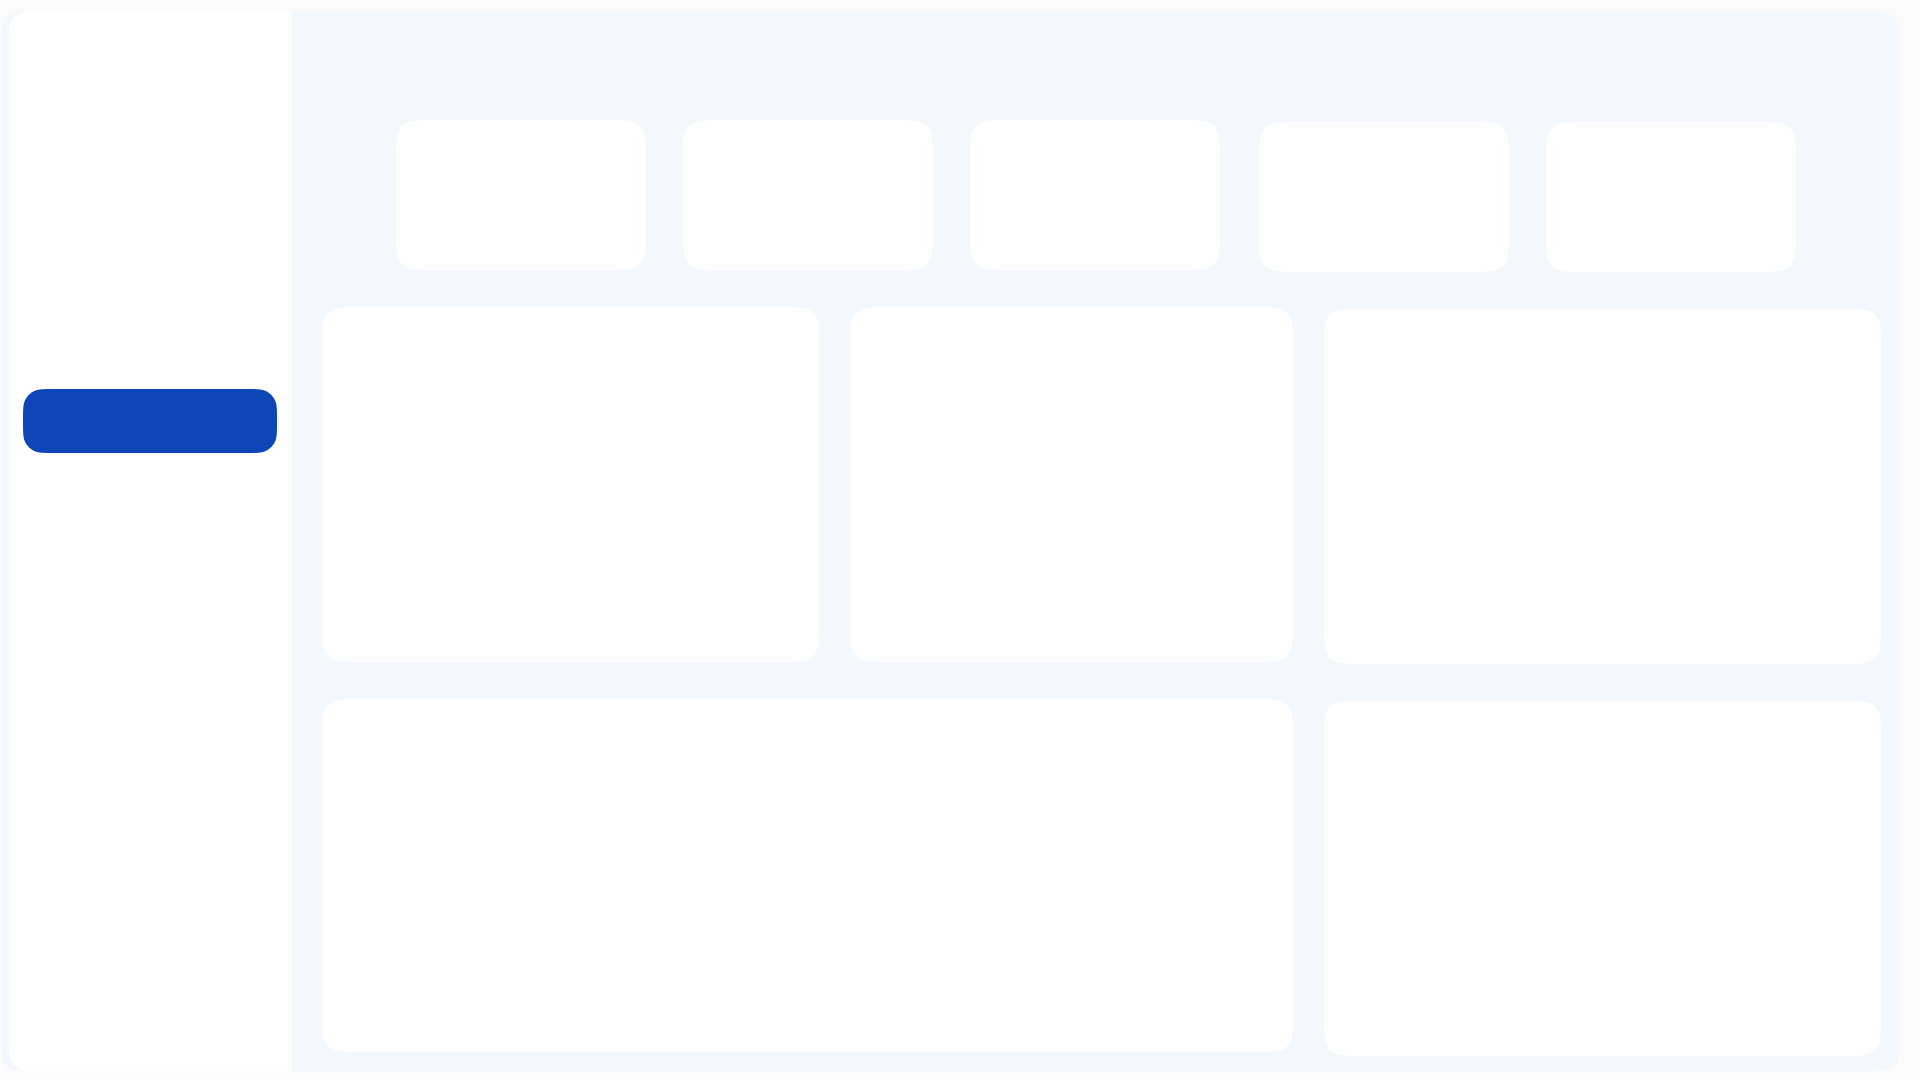

Layout of this report page (visuals, bound fields, positions):
{"tool":"powerbi","page":{"name":"Enrollment Analysis","canvas":[1920,1080],"ordinal":2},"visuals":[{"type":"cardVisual","fields":{"Data":["All Measures.Patient joined trail"]},"box":[677.6,116.9,260.1,152.7],"z":0},{"type":"cardVisual","fields":{"Data":["All Measures.Planned Enrollment"]},"box":[398.4,116.9,241,152.7],"z":1000},{"type":"cardVisual","fields":{"Data":["All Measures.Actual Enrollment"]},"box":[959.1,116.9,264.8,152.7],"z":2000},{"type":"cardVisual","fields":{"Data":["All Measures.Dropout Count"]},"box":[1257.4,116.9,260.1,152.7],"z":5000},{"type":"cardVisual","fields":{"Data":["All Measures.Enrollment %"]},"box":[1538.9,116.9,260.1,157.5],"z":6000},{"type":"clusteredBarChart","fields":{"Category":["Site_Master.SiteName"],"Y":["All Measures.Patient joined trail"]},"box":[324.5,303,496.3,350.7],"z":7000},{"type":"clusteredBarChart","fields":{"Category":["Site_Master.SiteName"],"Y":["All Measures.Dropout Count"]},"box":[1331.3,701.5,539.2,350.7],"z":8000},{"type":"donutChart","fields":{"Category":["Patient_Enrollment_v2.DropoutReason"],"Y":["All Measures.Dropout Count"]},"box":[856.5,312.6,431.9,348.3],"z":9000},{"type":"lineChart","fields":{"Y":["All Measures.Patient joined trail"],"Category":["Patient_Enrollment_v2.EnrollmentDate.Variation.Date Hierarchy.Month"]},"box":[324.5,701.5,963.9,341.2],"z":10000},{"type":"clusteredColumnChart","fields":{"Category":["Patient_Enrollment_v2.Year MM"],"Y":["All Measures.Patient joined trail"]},"box":[1331.3,312.6,555.9,348.3],"z":11000},{"type":"textbox","box":[28.6,377,245.7,76.3],"z":12000},{"type":"actionButton","box":[23.9,469.6,248.1,76.3],"z":13000},{"type":"actionButton","box":[23.9,557.9,248.1,76.3],"z":14000},{"type":"actionButton","box":[23.9,642.1,248.1,76.3],"z":15000},{"type":"actionButton","box":[23.9,275.6,248.1,76.3],"z":16000},{"type":"actionButton","box":[23.9,189.7,248.1,76.3],"z":17000},{"type":"image","box":[1823.5,29.7,59.4,52],"z":20000},{"type":"textbox","box":[314.2,12.4,692.8,99],"z":21000},{"type":"textbox","box":[942.4,23.9,415.1,62],"z":22000},{"type":"image","box":[1746.8,29.7,59.4,52],"z":23000},{"type":"image","box":[0,0,298.2,169.4],"z":24000},{"type":"textbox","box":[23.9,923.3,248.1,71.6],"z":25000},{"type":"image","box":[24,709,248,332],"z":25001}]}

Visuals, with their boxes on the page's 1920x1080 design canvas (x1, y1, x2, y2). These are canvas units, not pixel positions in the 1920x1080 screenshot, which may show the page scaled, cropped or inside an application window:
cardVisual - All Measures.Patient joined trail: l=678, t=117, r=938, b=270
cardVisual - All Measures.Planned Enrollment: l=398, t=117, r=639, b=270
cardVisual - All Measures.Actual Enrollment: l=959, t=117, r=1224, b=270
cardVisual - All Measures.Dropout Count: l=1257, t=117, r=1518, b=270
cardVisual - All Measures.Enrollment %: l=1539, t=117, r=1799, b=274
clusteredBarChart - Site_Master.SiteName x All Measures.Patient joined trail: l=324, t=303, r=821, b=654
clusteredBarChart - Site_Master.SiteName x All Measures.Dropout Count: l=1331, t=702, r=1870, b=1052
donutChart - Patient_Enrollment_v2.DropoutReason x All Measures.Dropout Count: l=856, t=313, r=1288, b=661
lineChart - All Measures.Patient joined trail x Patient_Enrollment_v2.EnrollmentDate.Variation.Date Hierarchy.Month: l=324, t=702, r=1288, b=1043
clusteredColumnChart - Patient_Enrollment_v2.Year MM x All Measures.Patient joined trail: l=1331, t=313, r=1887, b=661
textbox: l=29, t=377, r=274, b=453
actionButton: l=24, t=470, r=272, b=546
actionButton: l=24, t=558, r=272, b=634
actionButton: l=24, t=642, r=272, b=718
actionButton: l=24, t=276, r=272, b=352
actionButton: l=24, t=190, r=272, b=266
image: l=1824, t=30, r=1883, b=82
textbox: l=314, t=12, r=1007, b=111
textbox: l=942, t=24, r=1358, b=86
image: l=1747, t=30, r=1806, b=82
image: l=0, t=0, r=298, b=169
textbox: l=24, t=923, r=272, b=995
image: l=24, t=709, r=272, b=1041
